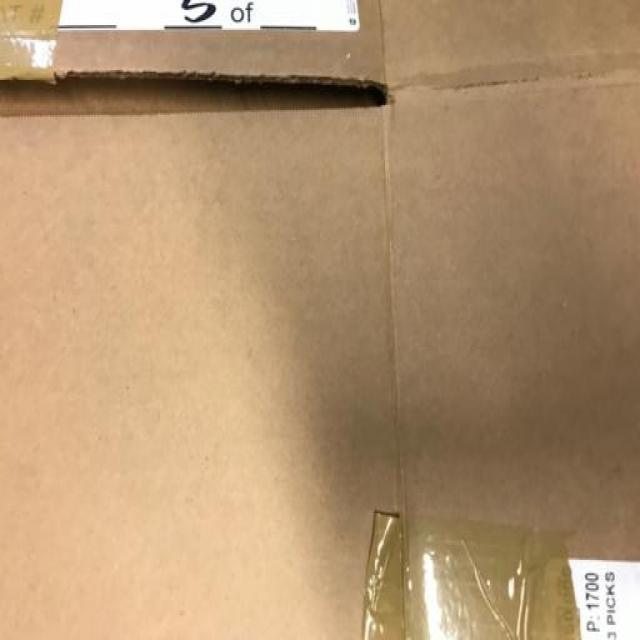cardboard paper: (0, 108, 395, 639), (384, 0, 639, 569)
